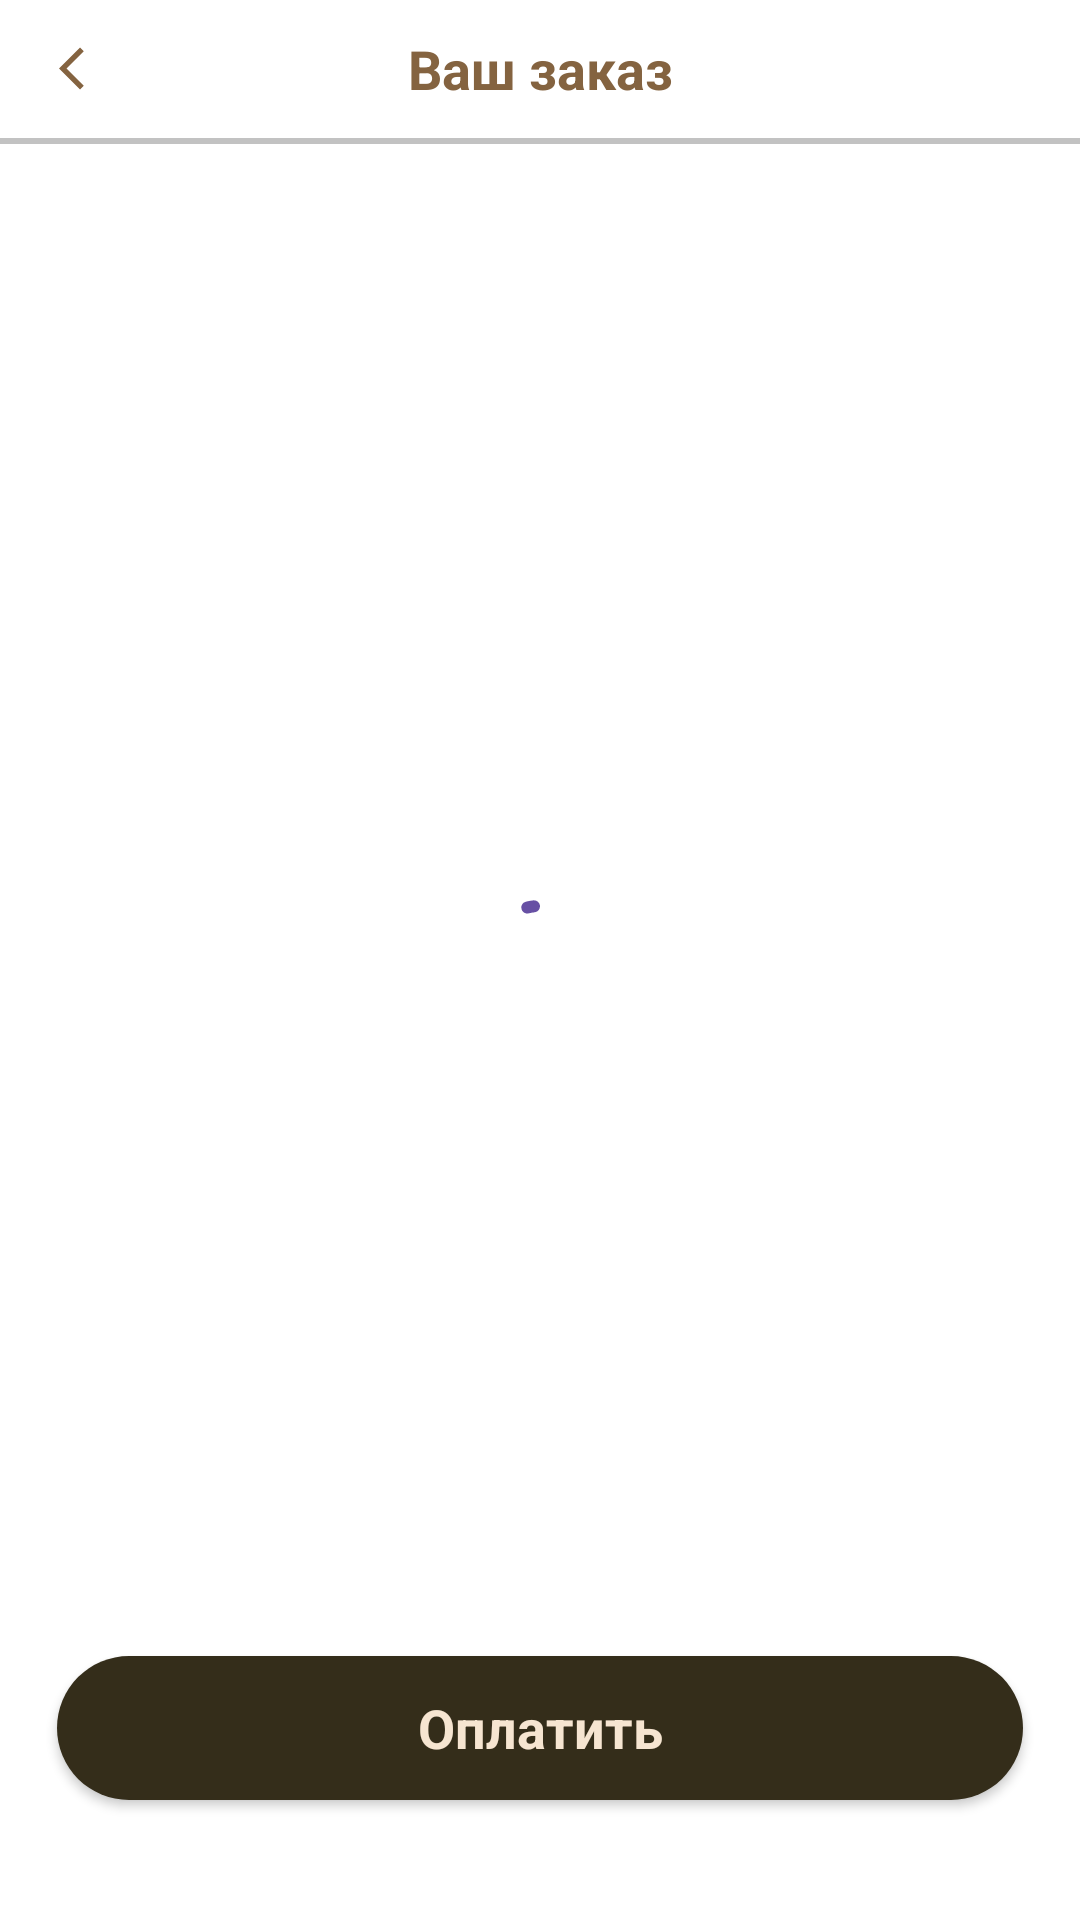

Locate icon controls on the screen. Image size 1080×1920, boxes as (x1, y1, x2, y2).
arrow back: (59, 47, 84, 90)
